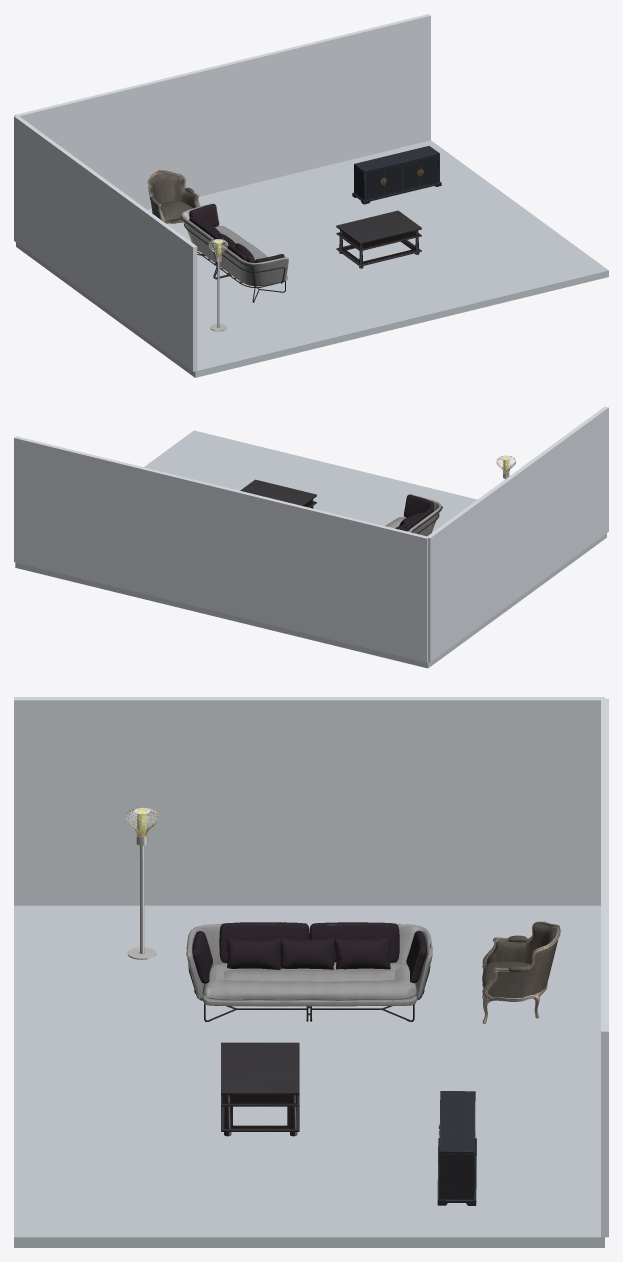
The model's file is stage3.glb.
3 views of the same model, one above another, from view 1: azimuth 30°, elevation 25°; view 2: azimuth 150°, elevation 25°; view 3: azimuth 270°, elevation 25° (orthographic). The views are drawn at different scales.
Parts seen in each view (by area): view 1: Floor, wall_back, wall_left, raw_model, raw_model.002, raw_model.001, raw_model.003; view 2: wall_back, wall_left, Floor, raw_model, raw_model.001; view 3: Floor, wall_left, raw_model, raw_model.001, raw_model.003, raw_model.002, wall_back, solid_003.
Boxes of the visible parts, left/top/right/bottom form: Floor: left=16, top=140, right=608, bottom=377; wall_back: left=15, top=14, right=430, bottom=209; wall_left: left=14, top=116, right=197, bottom=371; raw_model: left=181, top=203, right=288, bottom=302; raw_model.002: left=352, top=146, right=441, bottom=204; raw_model.001: left=336, top=210, right=421, bottom=268; raw_model.003: left=147, top=170, right=200, bottom=223; wall_back: left=14, top=436, right=428, bottom=662; wall_left: left=427, top=406, right=608, bottom=662; Floor: left=15, top=430, right=606, bottom=668; raw_model: left=385, top=494, right=442, bottom=536; raw_model.001: left=240, top=479, right=316, bottom=508; Floor: left=14, top=905, right=604, bottom=1247; wall_left: left=14, top=697, right=604, bottom=905; raw_model: left=186, top=922, right=432, bottom=1021; raw_model.001: left=221, top=1042, right=299, bottom=1136; raw_model.003: left=482, top=921, right=560, bottom=1023; raw_model.002: left=437, top=1091, right=476, bottom=1205; wall_back: left=601, top=698, right=608, bottom=1237; solid_003: left=127, top=835, right=156, bottom=959.
Size of the model in its own units: 8.04 by 2.42 by 6.04.
7 materials, 5 textured.
